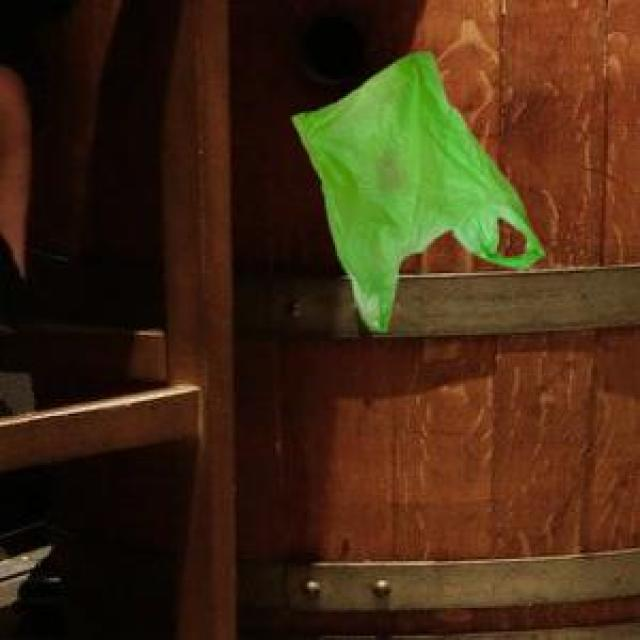plastic: (247, 26, 579, 352)
